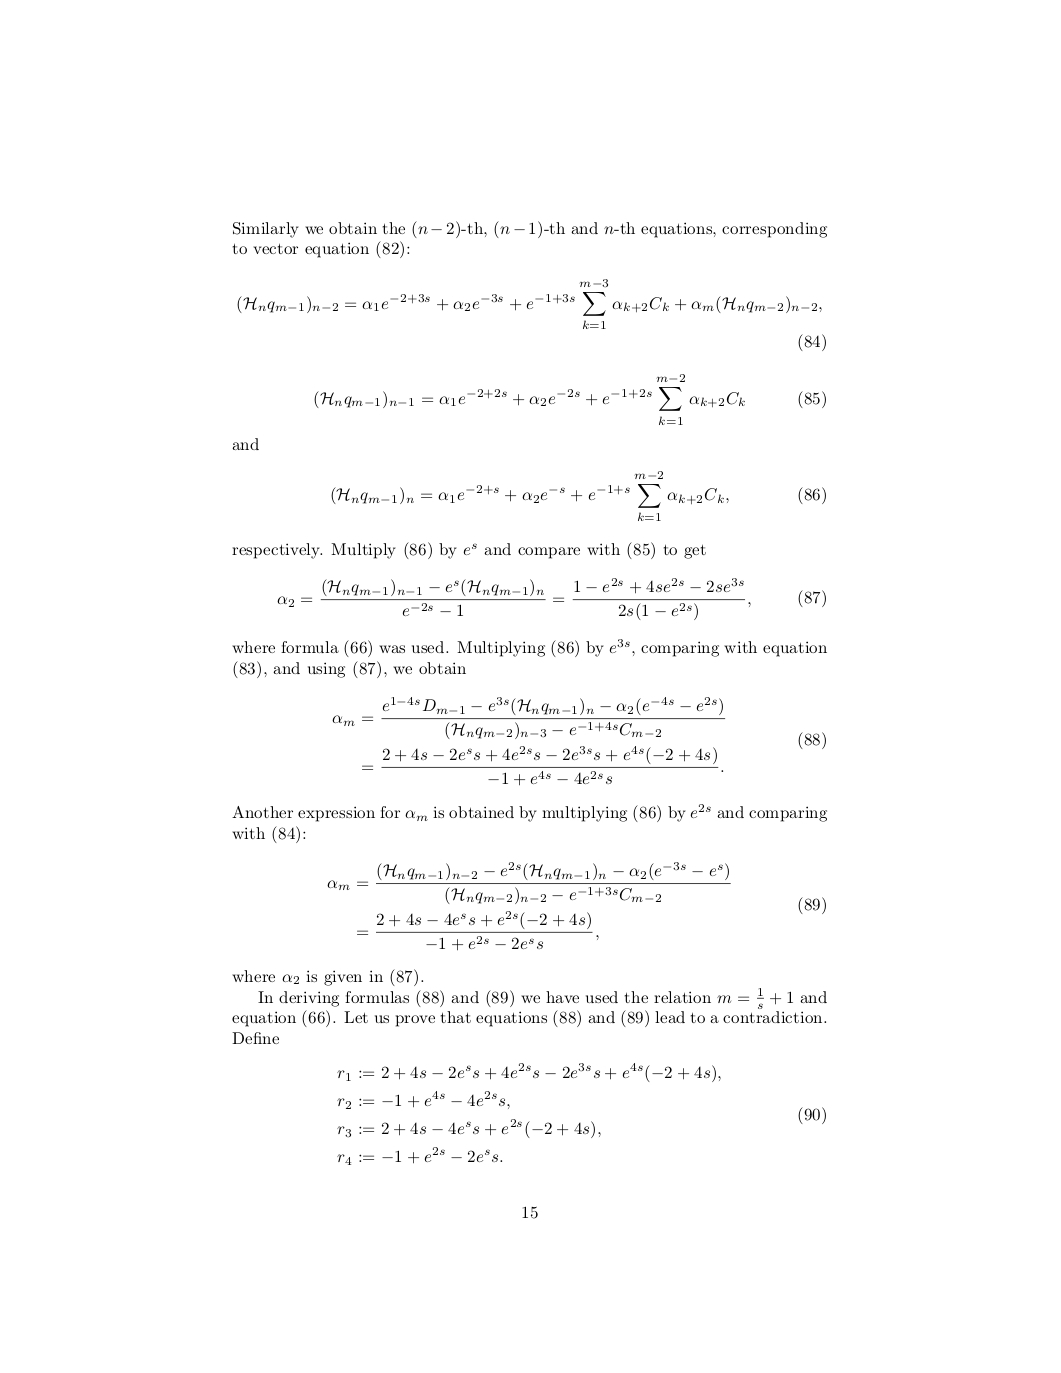formula: (237, 279, 821, 328), (314, 374, 825, 423), (331, 471, 825, 520), (278, 577, 825, 621), (327, 861, 730, 904), (332, 697, 726, 739), (337, 1109, 825, 1138), (362, 746, 723, 785), (357, 911, 598, 950), (337, 1062, 720, 1083), (337, 1145, 502, 1165), (337, 1091, 509, 1108)
